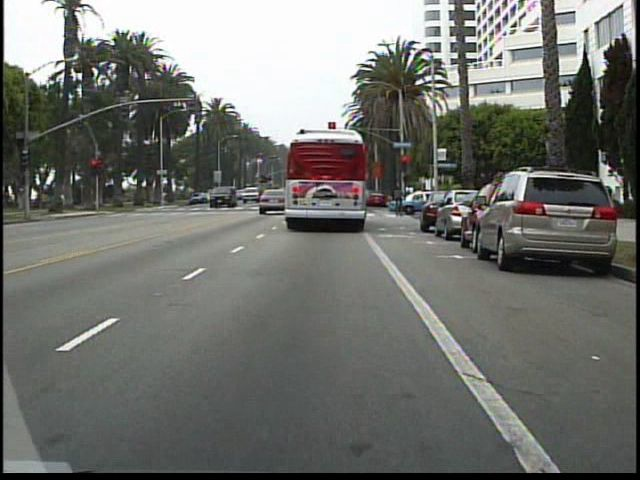person: (388, 183, 407, 216)
